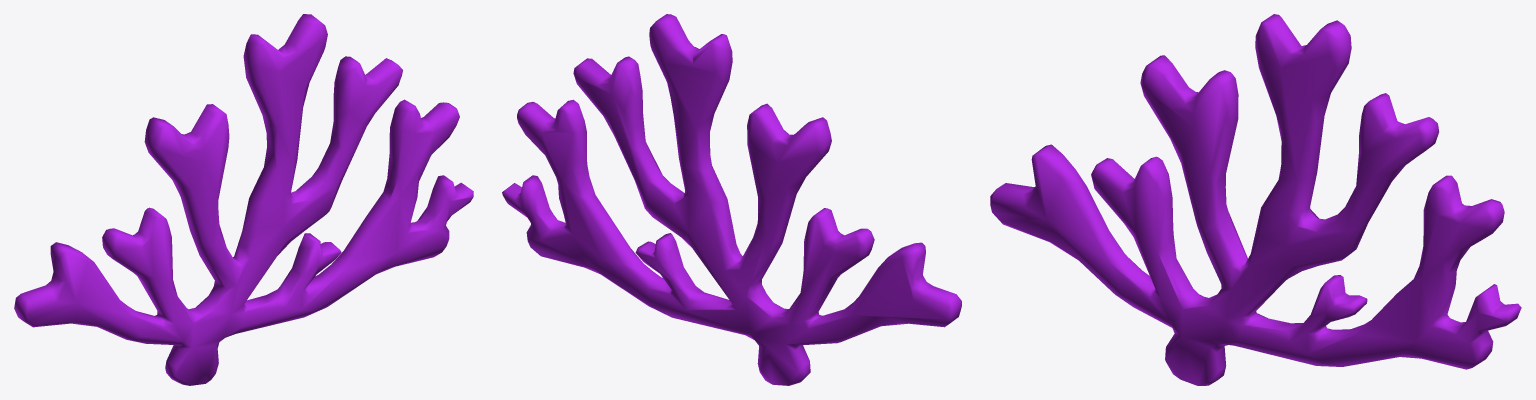
File: Coral2.fbx
The picture shows the model from 3 angles, left to right: view 1: azimuth 30°, elevation 25°; view 2: azimuth 150°, elevation 25°; view 3: azimuth 330°, elevation 25°; orthographic projection. The views are drawn at different scales.
Visible parts, largest first — view 1: coral 2; view 2: coral 2; view 3: coral 2.
Boxes of the visible parts, x1=… form: coral 2: x1=14, y1=14, x2=473, y2=385; coral 2: x1=502, y1=14, x2=961, y2=385; coral 2: x1=990, y1=14, x2=1521, y2=385.
Size of the model in its own units: 125 by 88.93 by 6.44.
